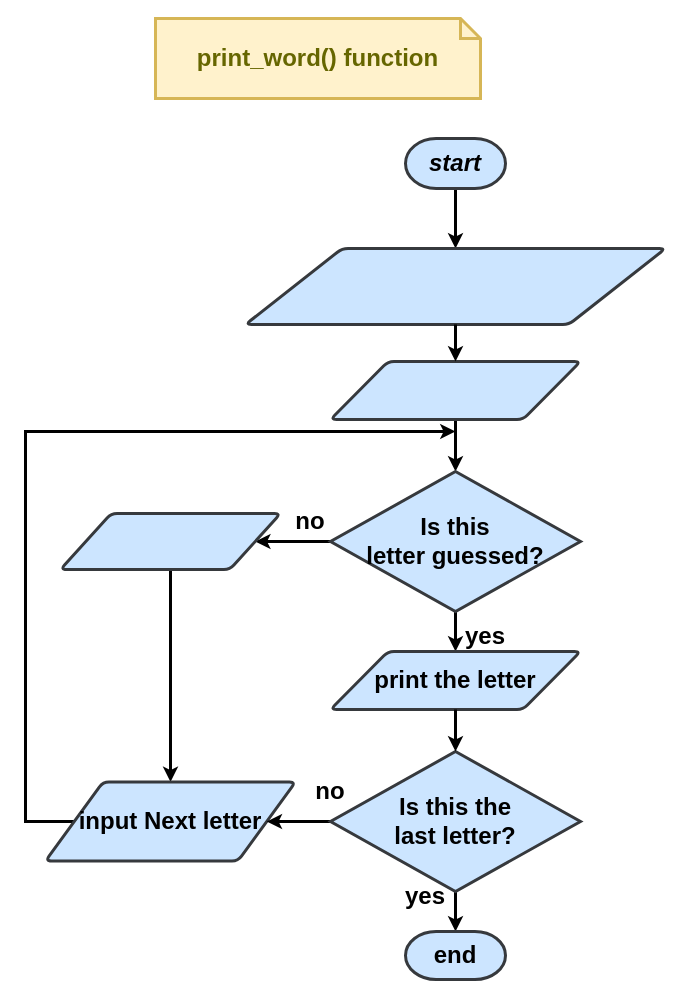
This 684x998 diagram has some shape labels left out. The shapes that lost their labels are listed below. From the top down, each one's centre as x and y in pixels, then its label:
(x=455, y=286): • input selected word • input its boolean mirror
(x=455, y=390): input first letter
(x=170, y=541): print a dash
